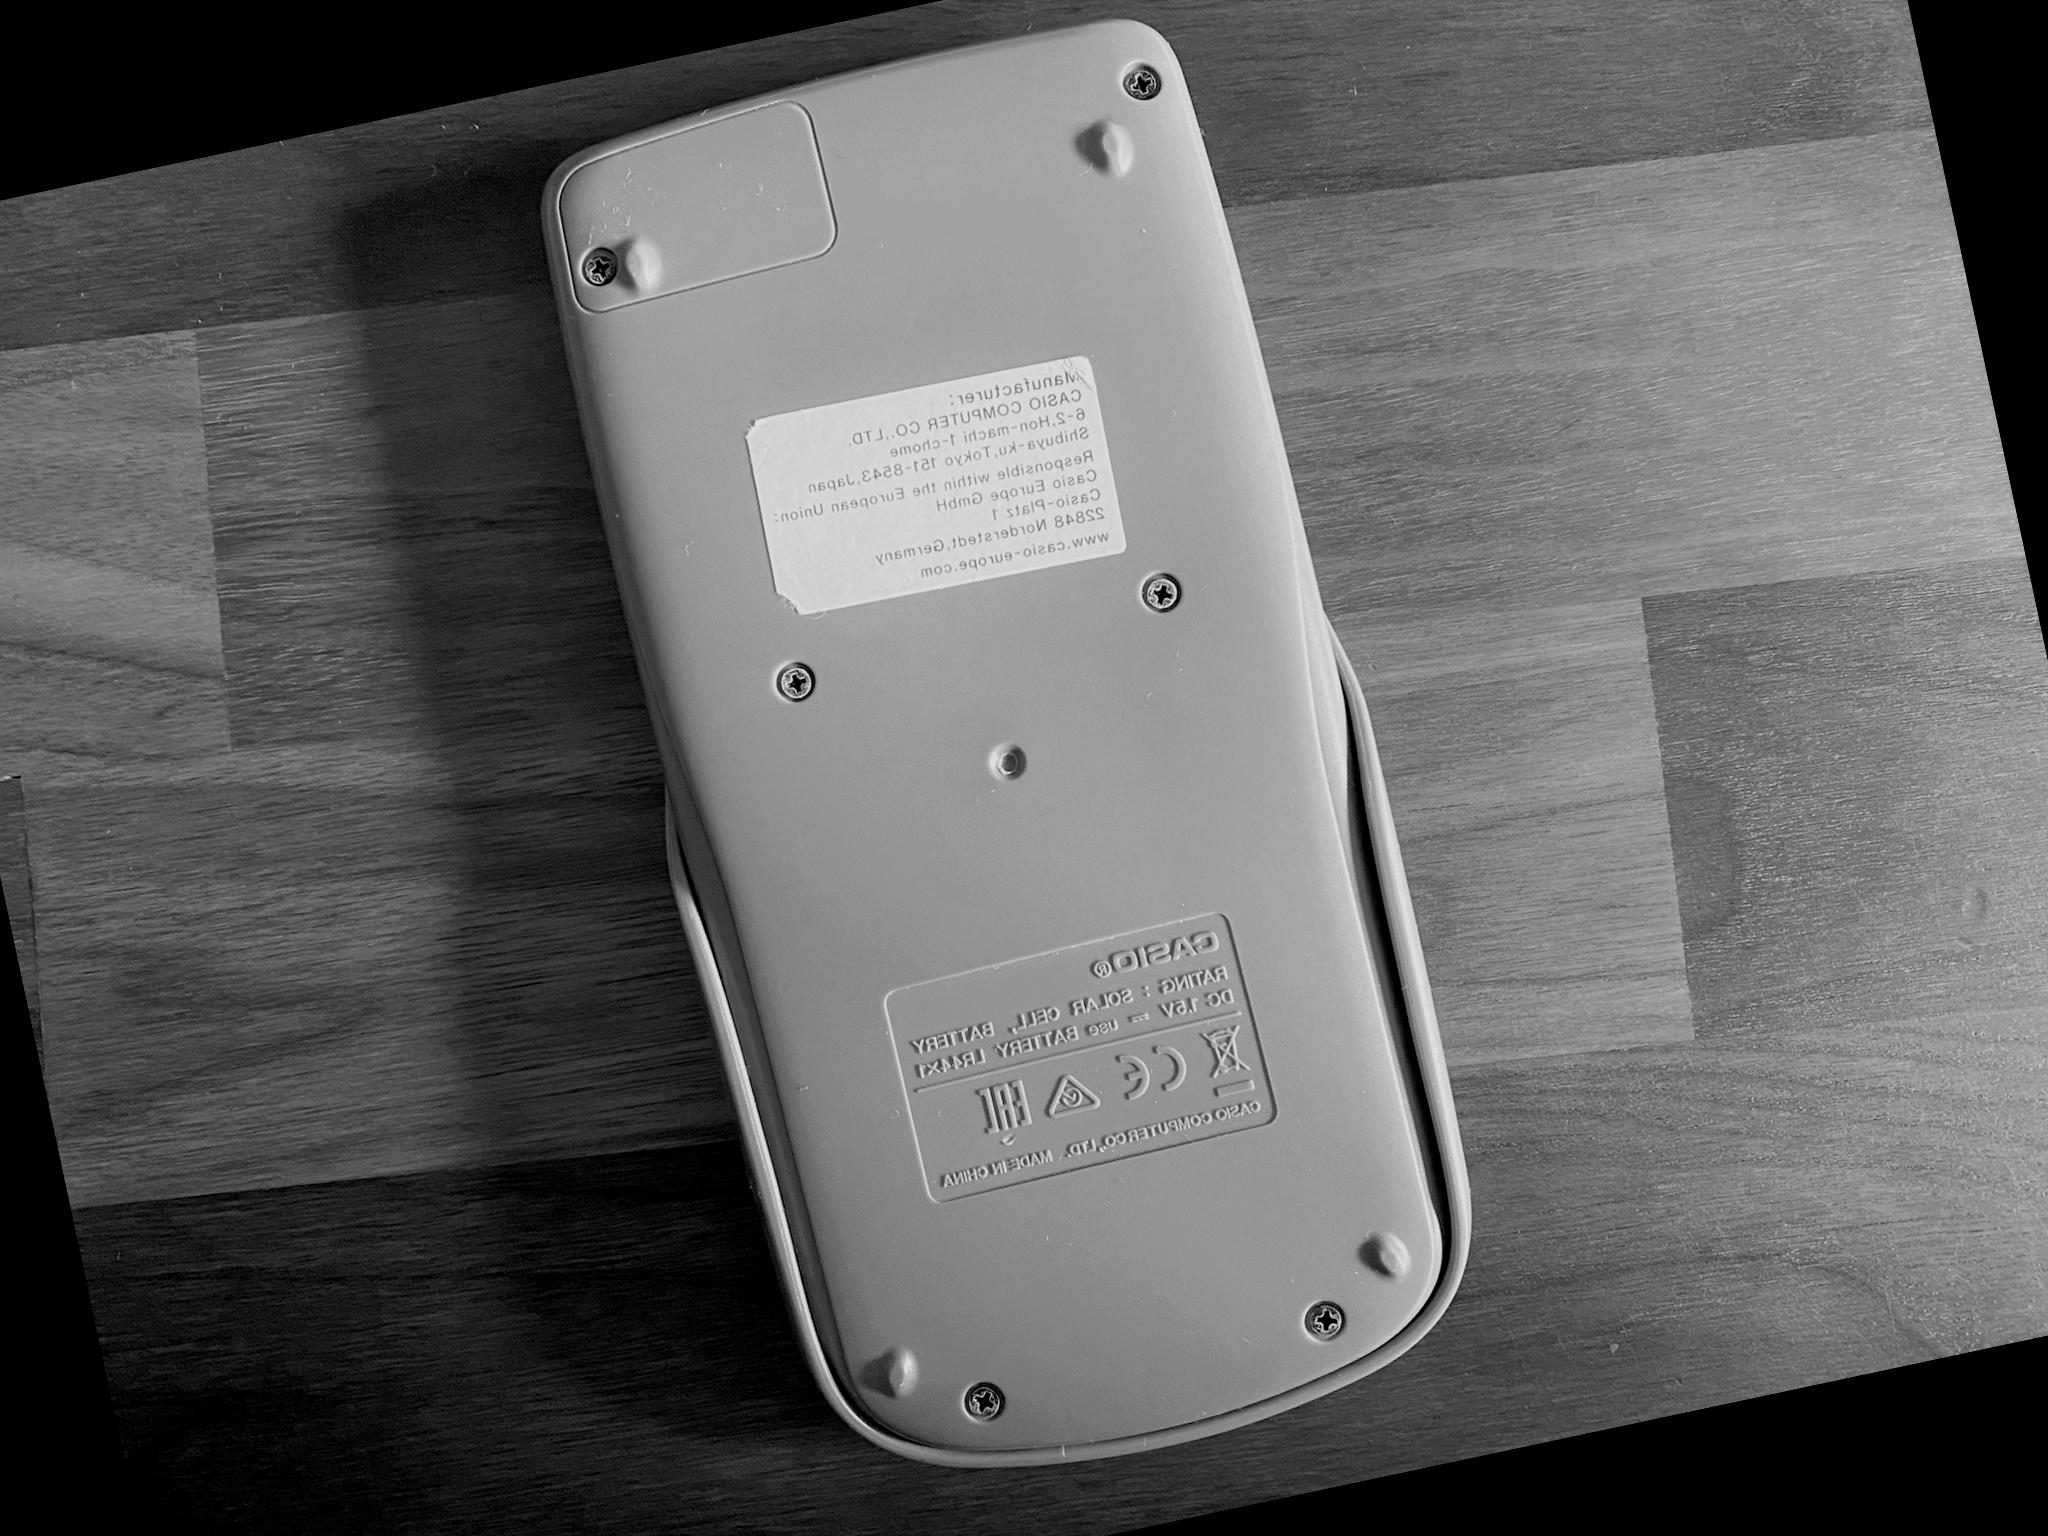philips-PZ: (1137, 570, 1184, 616), (1122, 60, 1164, 105), (959, 1381, 1005, 1423), (579, 244, 621, 287), (1305, 1302, 1347, 1341), (777, 662, 816, 700)
